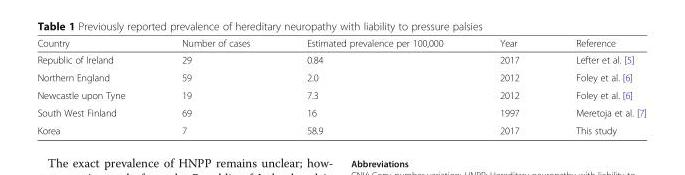table: (36, 37, 645, 135)
table column: (277, 37, 470, 135), (152, 37, 277, 135), (36, 37, 152, 135), (546, 37, 645, 135), (470, 37, 546, 135)
table column header: (36, 37, 645, 51)
table row: (36, 85, 645, 103), (36, 103, 645, 121), (36, 51, 645, 68), (36, 68, 645, 85), (36, 37, 645, 51), (36, 121, 645, 135)
